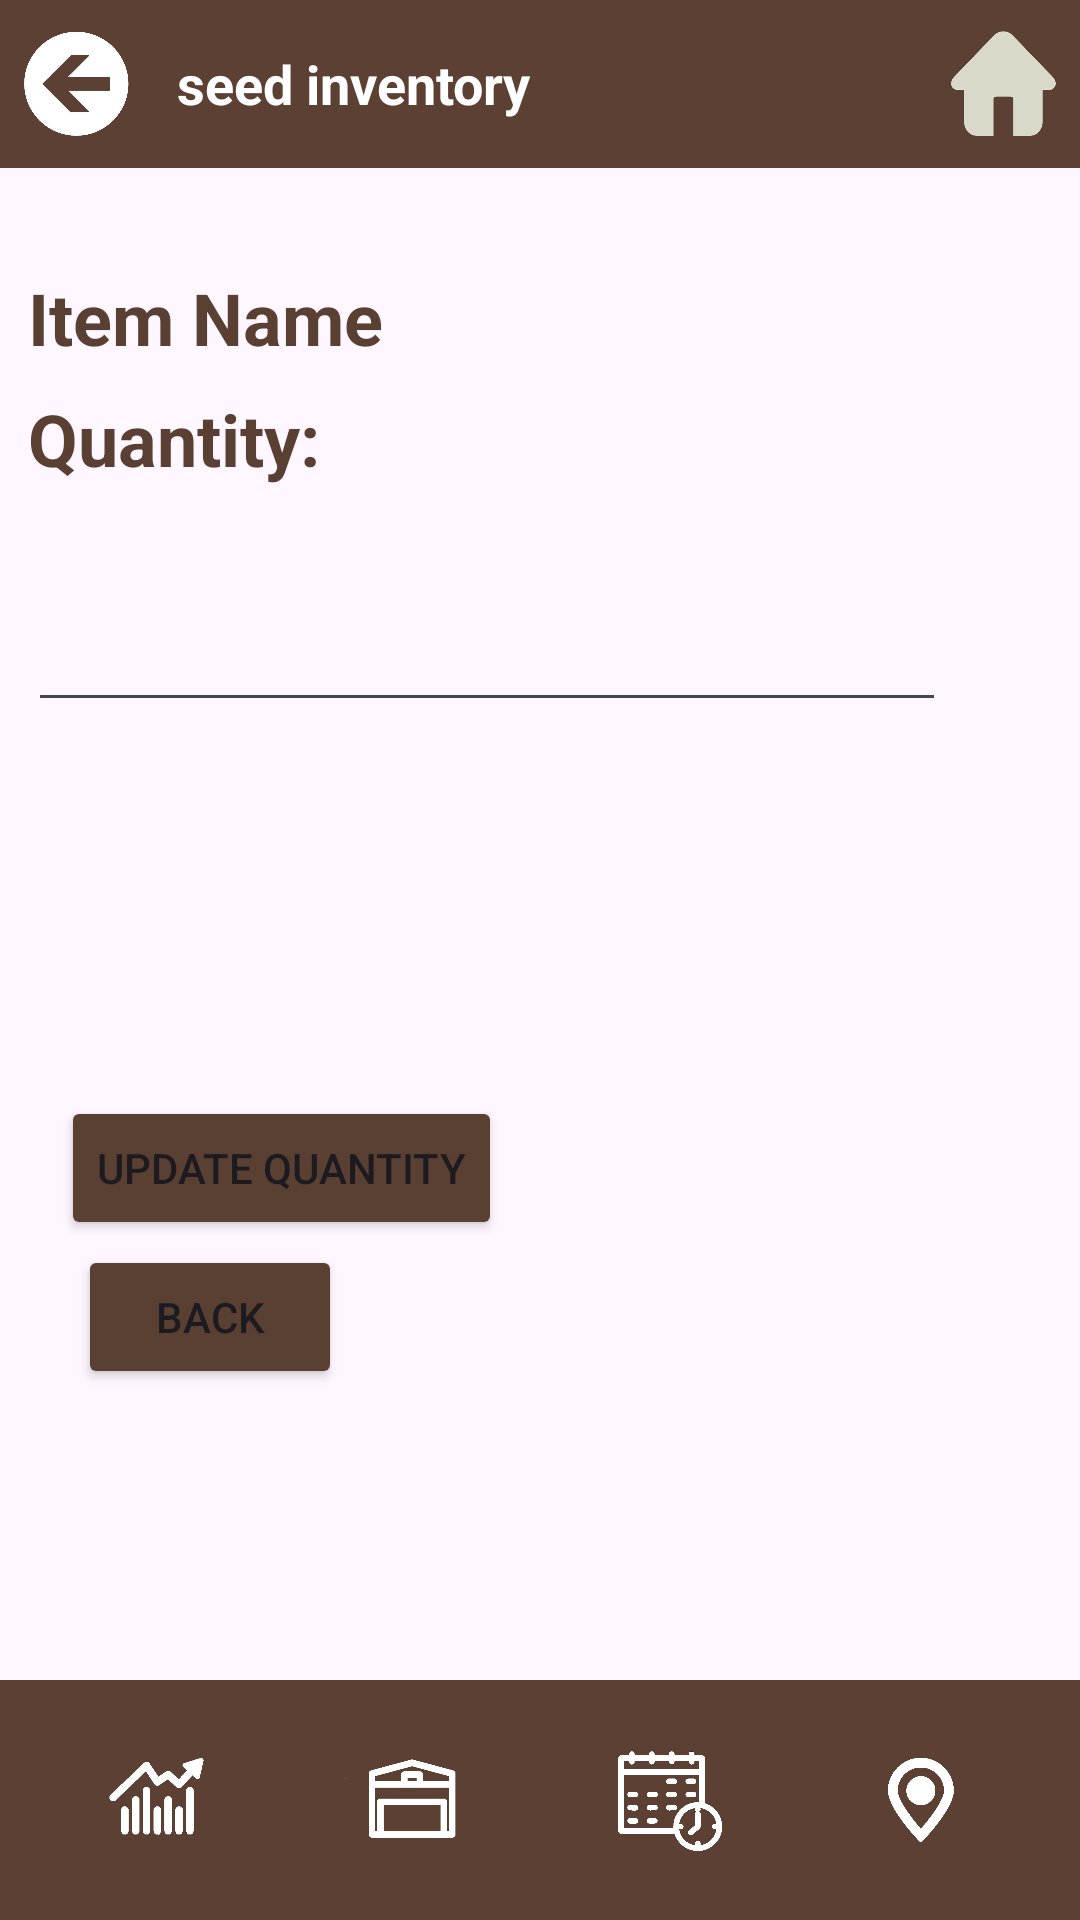

Locate icon controls on the screen. Image size 1080 x 1920, boxes as Rect(x1, y1, x2, y2).
Back: Rect(24, 32, 129, 136)
Inventory: Rect(369, 1759, 456, 1838)
map: Rect(888, 1758, 954, 1842)
task: Rect(618, 1751, 722, 1851)
